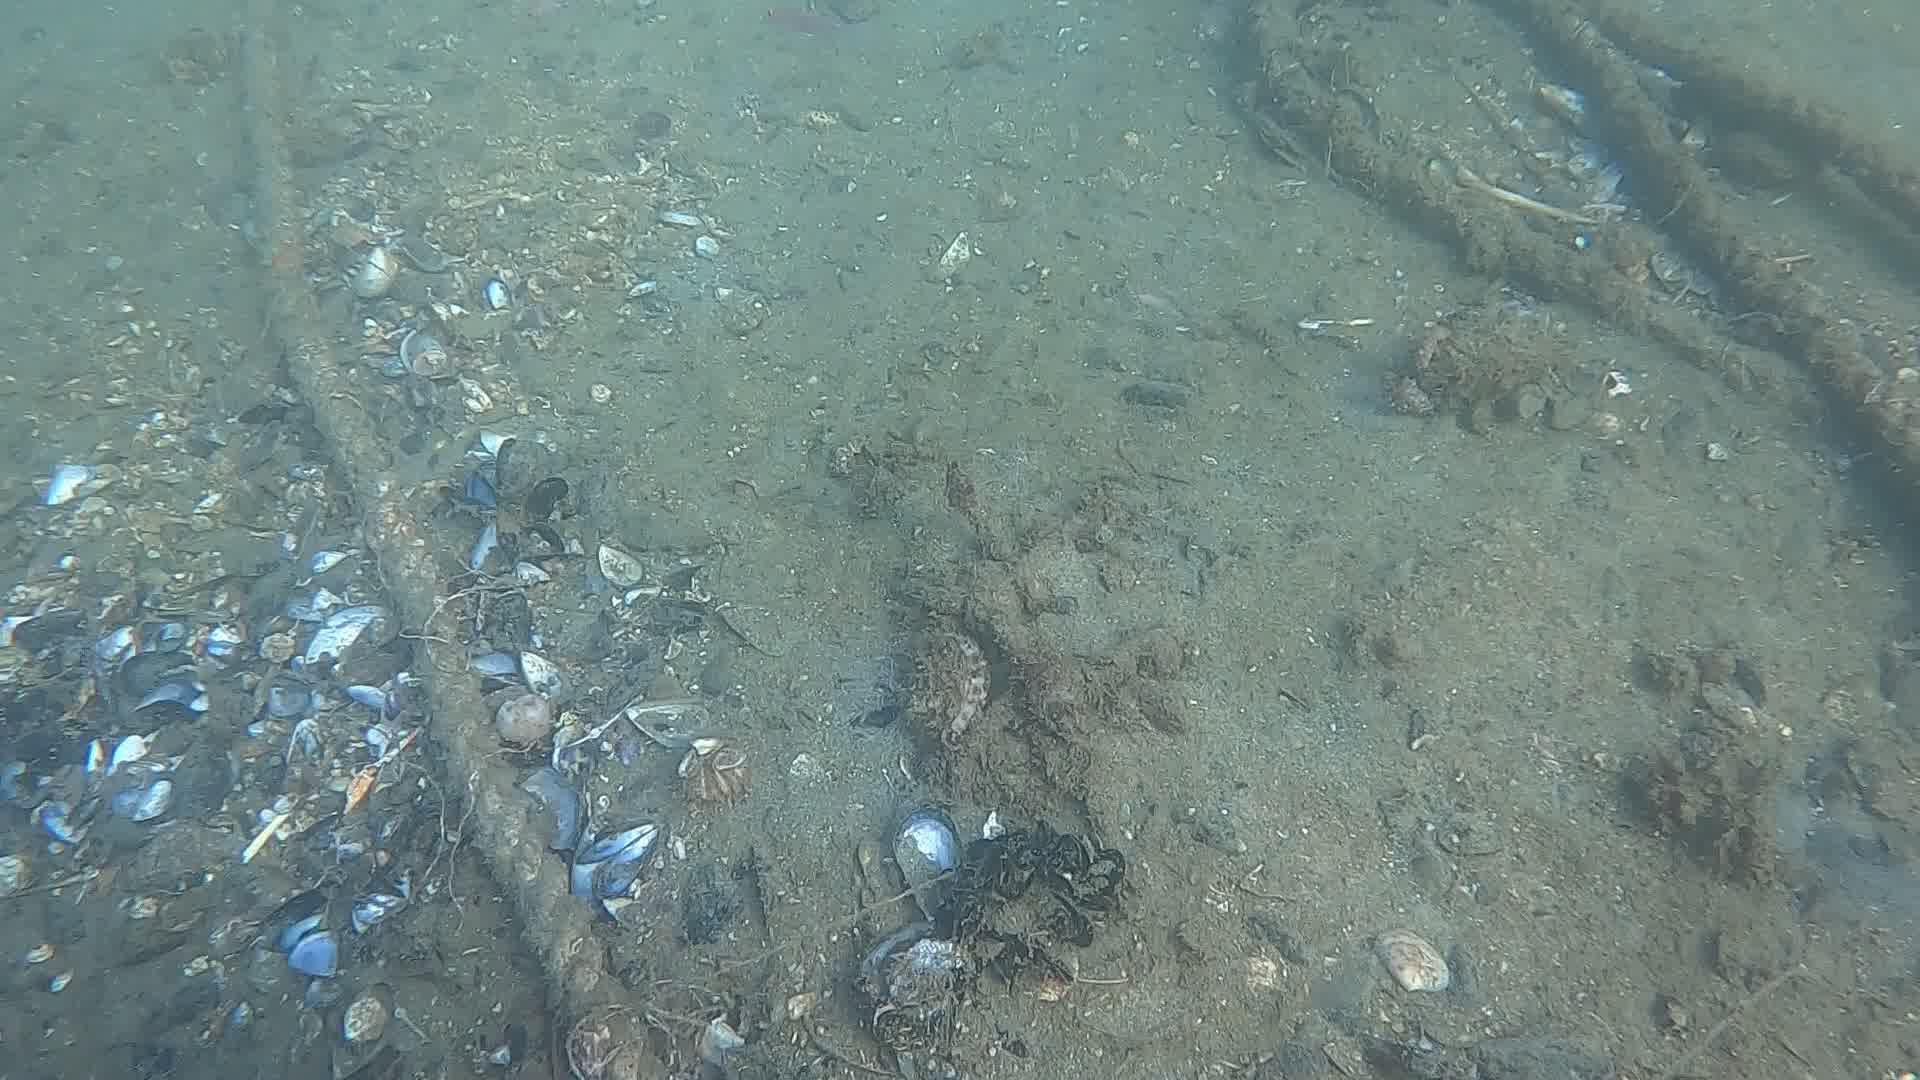bundle of ropes: (1236, 0, 1920, 501)
rope: (229, 0, 658, 1080)
